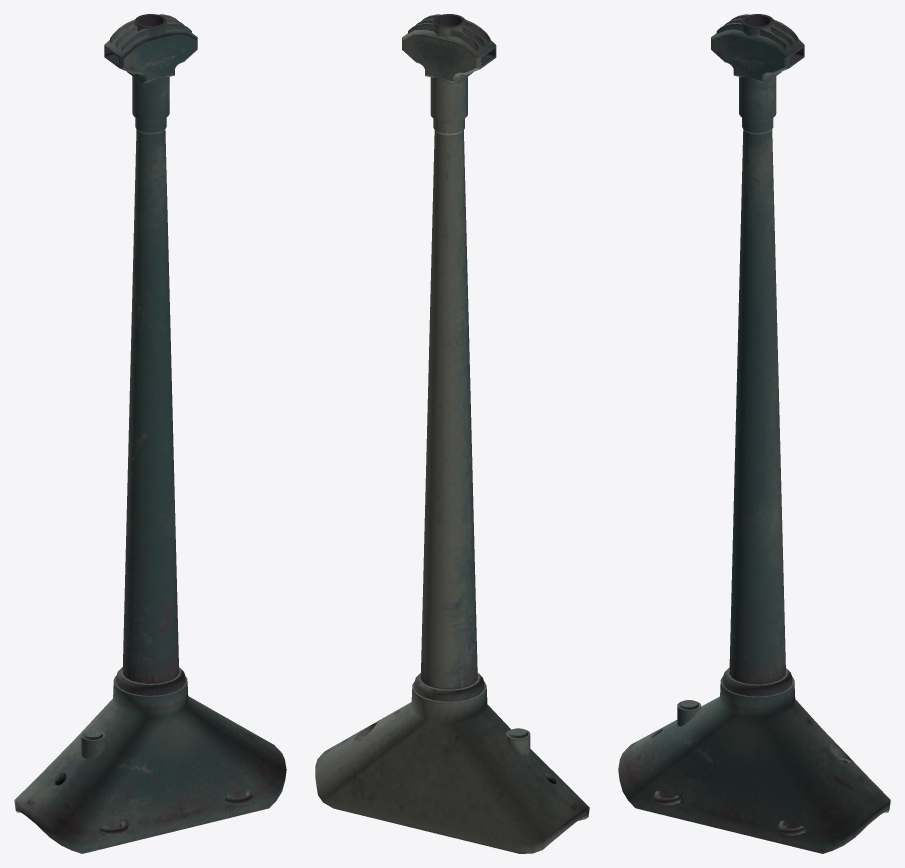
The model's file is Gun_01.glb.
3 views of the same model, side by side, from view 1: azimuth 30°, elevation 25°; view 2: azimuth 150°, elevation 25°; view 3: azimuth 330°, elevation 25° (orthographic).
Parts seen in each view (by area): view 1: set_0_group_0; view 2: set_0_group_0; view 3: set_0_group_0.
Boxes of the visible parts, <box> form: set_0_group_0: <box>14,14,286,853</box>; set_0_group_0: <box>315,14,589,853</box>; set_0_group_0: <box>618,14,890,853</box>.
Bounding box in the file's own units: 1.32 × 3.97 × 0.5299.
Materials: 1 (1 with a texture image).
